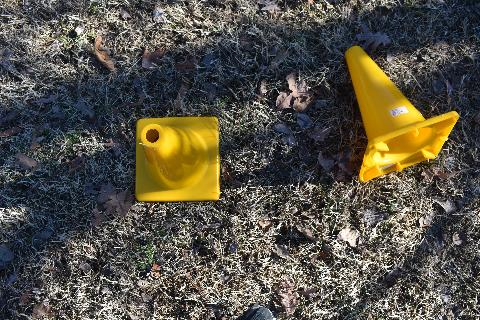cone: (346, 46, 460, 182), (134, 116, 220, 202)
